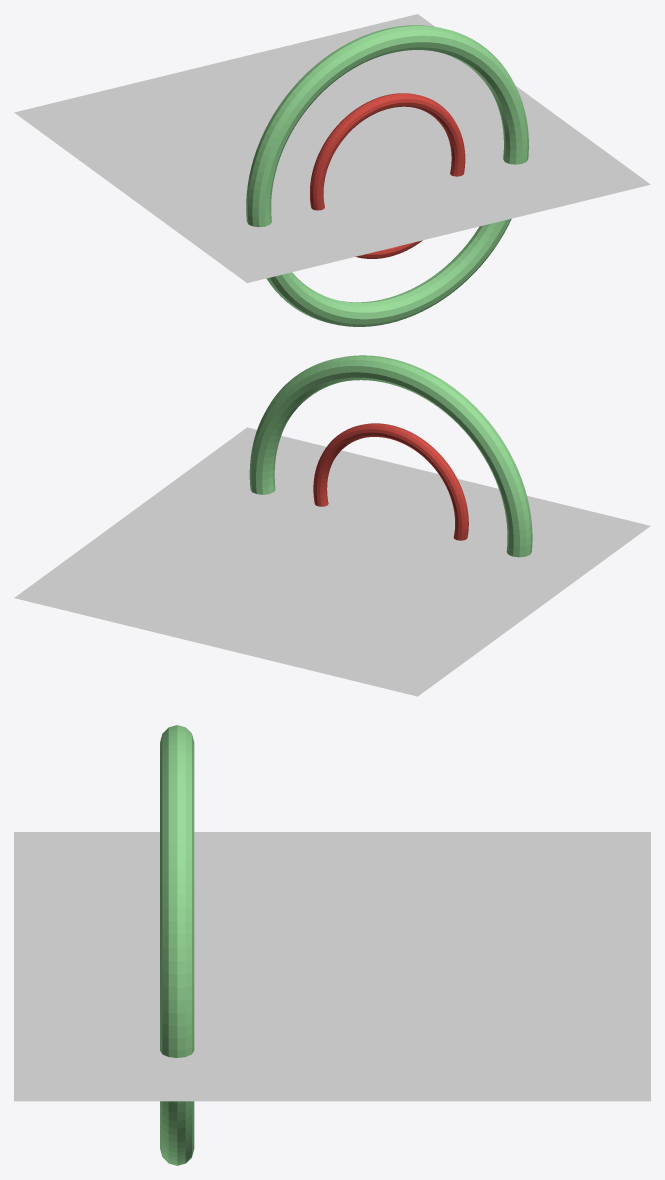
File: testTorus.dae
3 views of the same model, one above another, from view 1: azimuth 30°, elevation 25°; view 2: azimuth 150°, elevation 25°; view 3: azimuth 270°, elevation 25° (orthographic). The views are drawn at different scales.
Parts seen in each view (by area): view 1: g_nt_Plane, g_nt_Torus_003, g_nt_Torus_000; view 2: g_nt_Plane, g_nt_Torus_003, g_nt_Torus_000; view 3: g_nt_Plane, g_nt_Torus_003.
Boxes of the visible parts, bbox=[...] form: g_nt_Plane: bbox=[14, 14, 650, 282]; g_nt_Torus_003: bbox=[246, 25, 528, 326]; g_nt_Torus_000: bbox=[310, 93, 465, 258]; g_nt_Plane: bbox=[14, 427, 650, 696]; g_nt_Torus_003: bbox=[249, 355, 532, 557]; g_nt_Torus_000: bbox=[313, 423, 468, 540]; g_nt_Plane: bbox=[14, 832, 650, 1101]; g_nt_Torus_003: bbox=[160, 725, 194, 1165].
Bounding box in the file's own units: 12.69 × 12.69 × 8.78.
